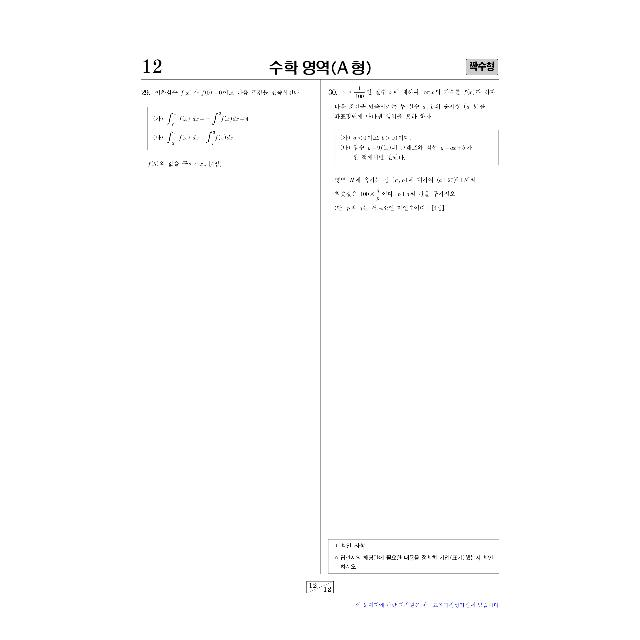short: (322, 84, 512, 224), (137, 83, 317, 175)
